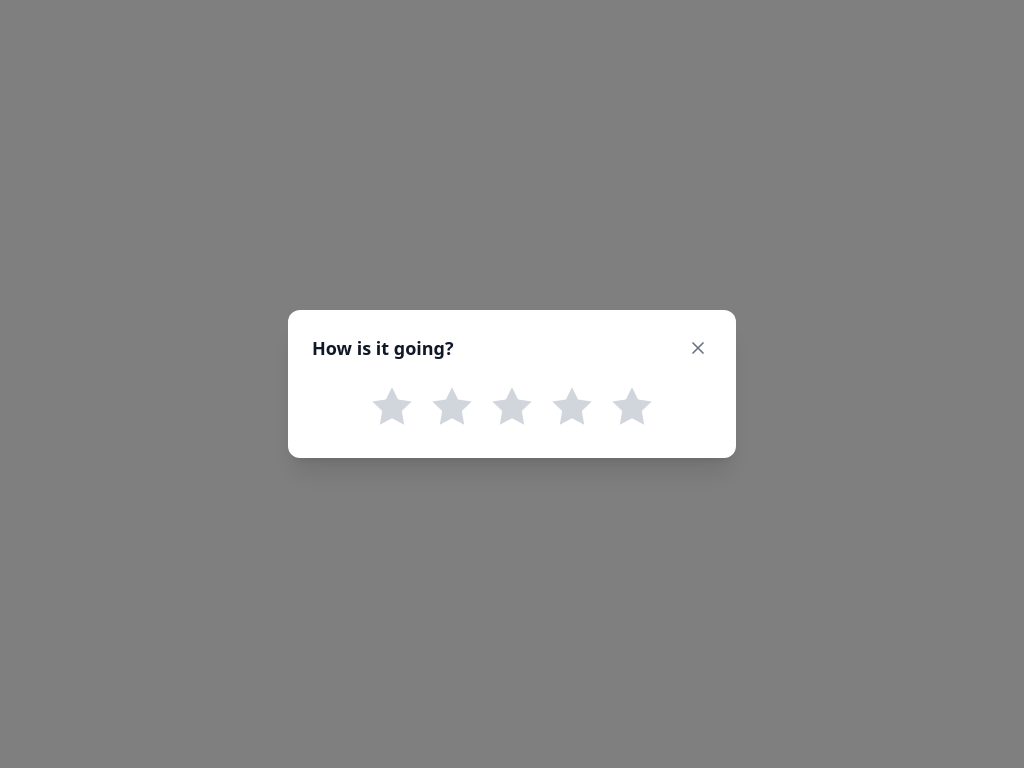
it: what comes after the star › stays where it is when the send fails, with what was written still there
Click the button named "star". click: (572, 406)
box: x1=544 y1=378 x2=600 y2=434
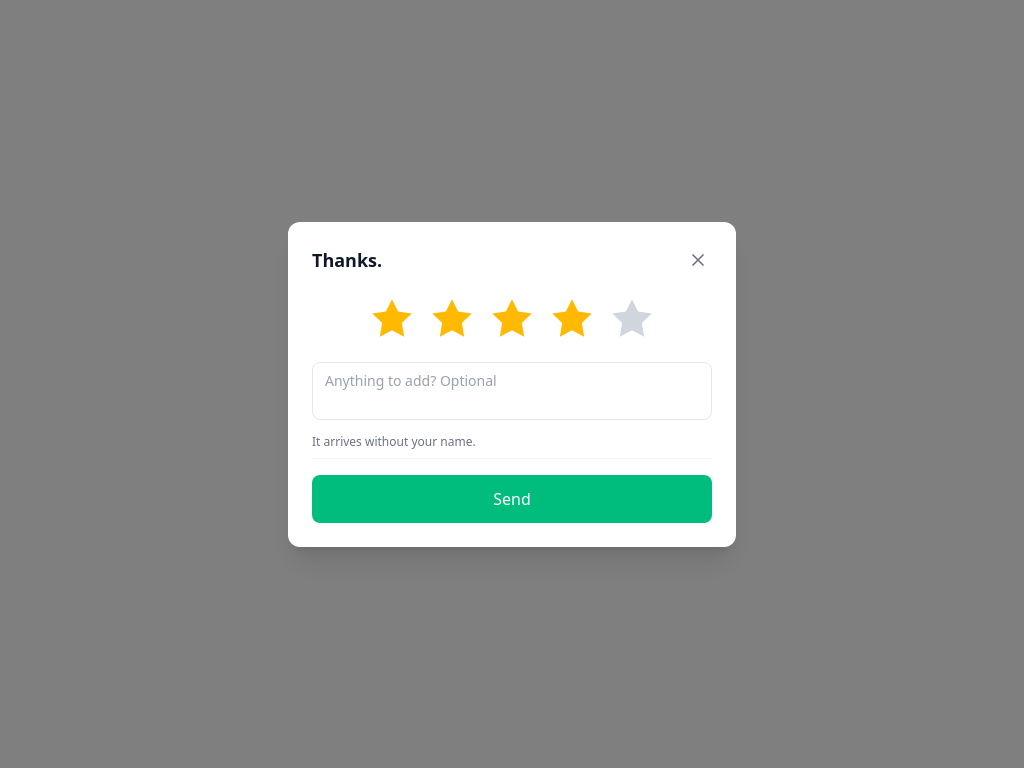
Type "the year view" into the text box with placeholder "Anything to add? Optional". click: (512, 390)
box: x1=312 y1=362 x2=712 y2=420
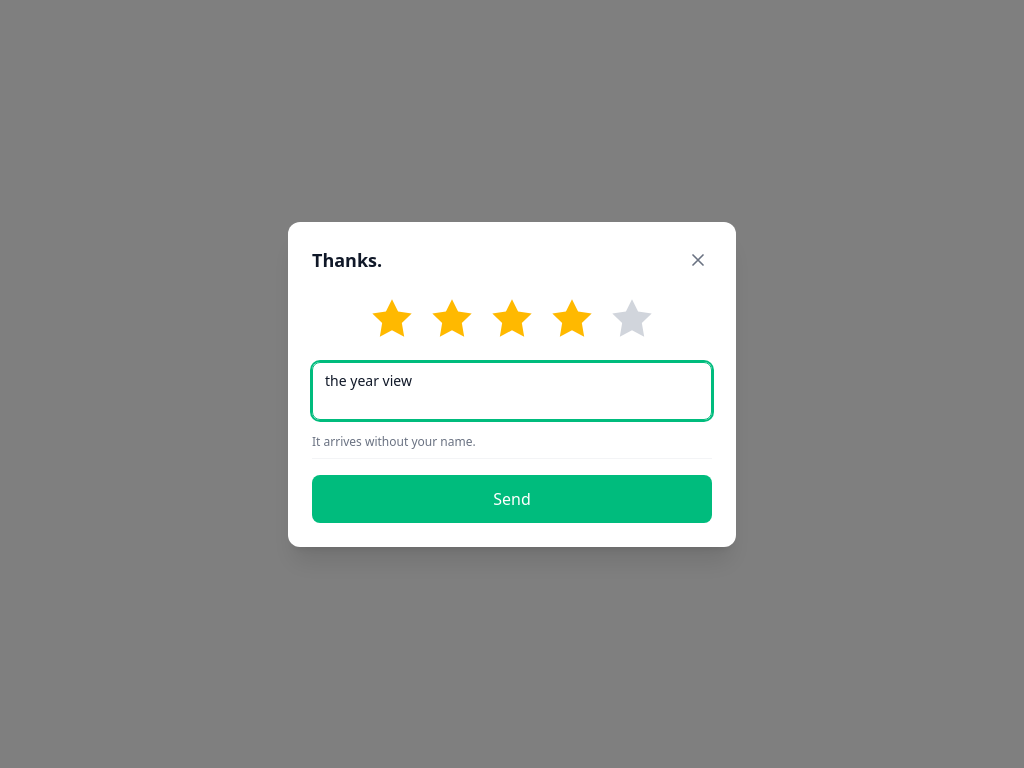
Click the button "Send". click: (512, 498)
box: x1=312 y1=474 x2=712 y2=522
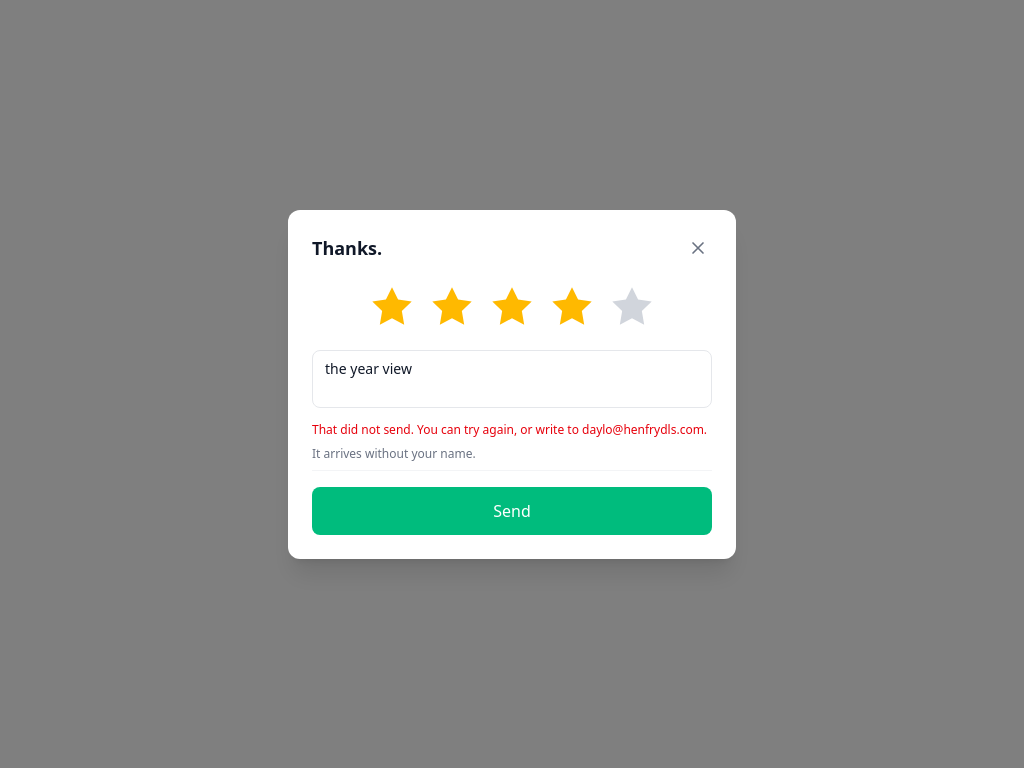
Now the text with test id "feedback-rating-failed" is shown, box x1=312 y1=422 x2=712 y2=438
